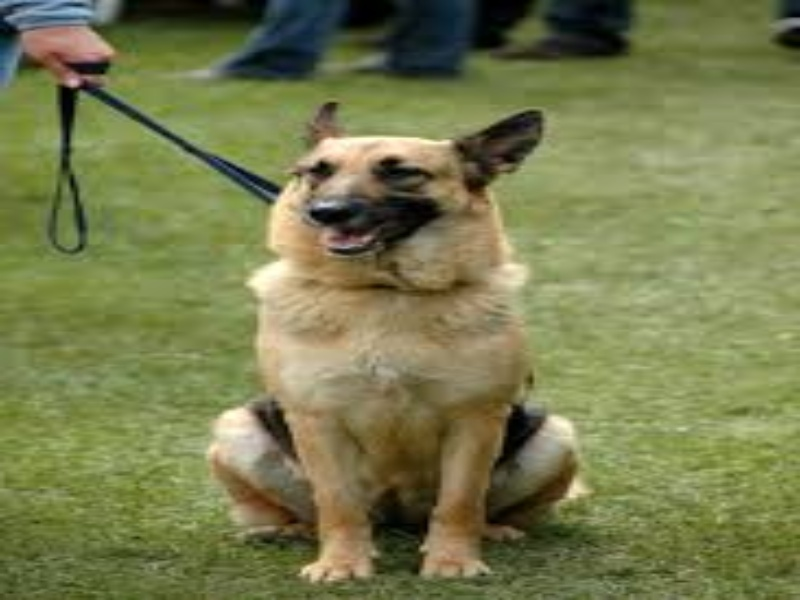dog: (209, 97, 582, 584)
